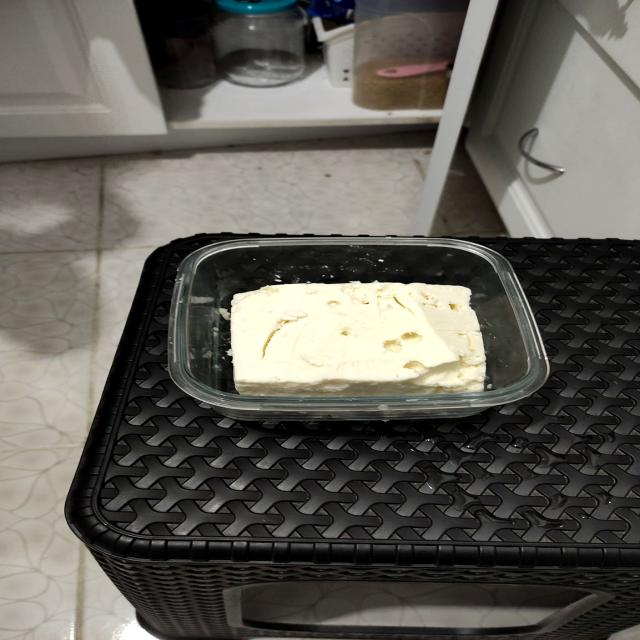cheese: (185, 233, 538, 421)
